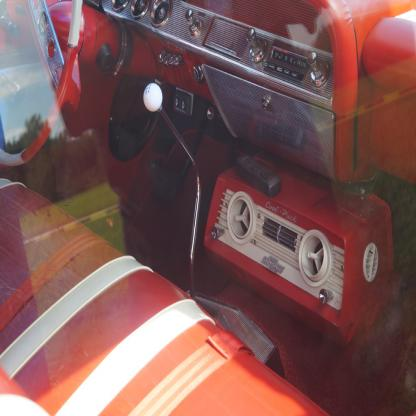Car: (1, 3, 416, 416)
